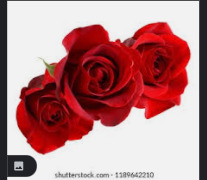RedRose: (58, 25, 141, 120), (16, 68, 95, 153), (126, 22, 190, 117)
